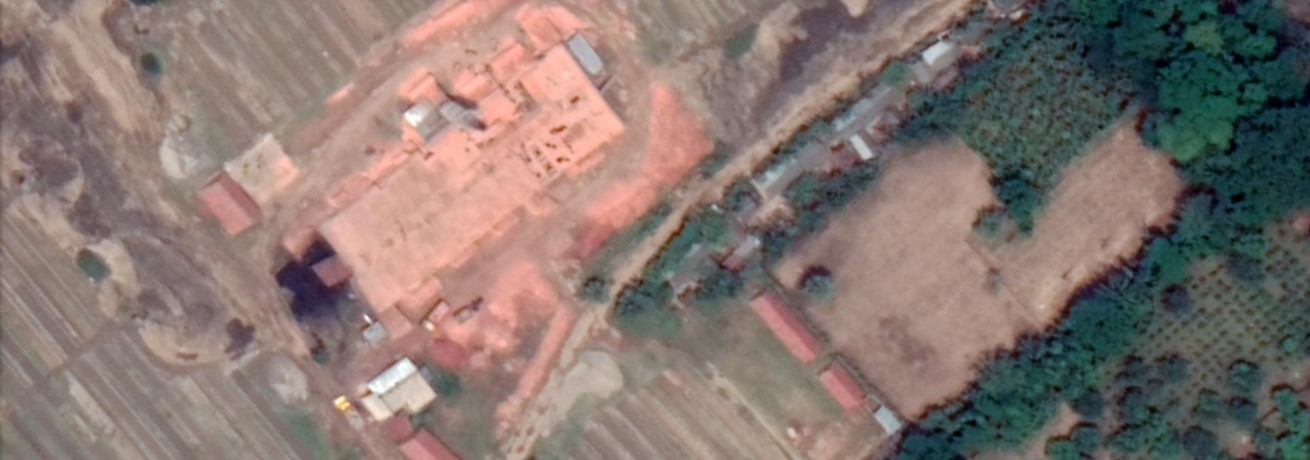kiln: (353, 26, 608, 260)
